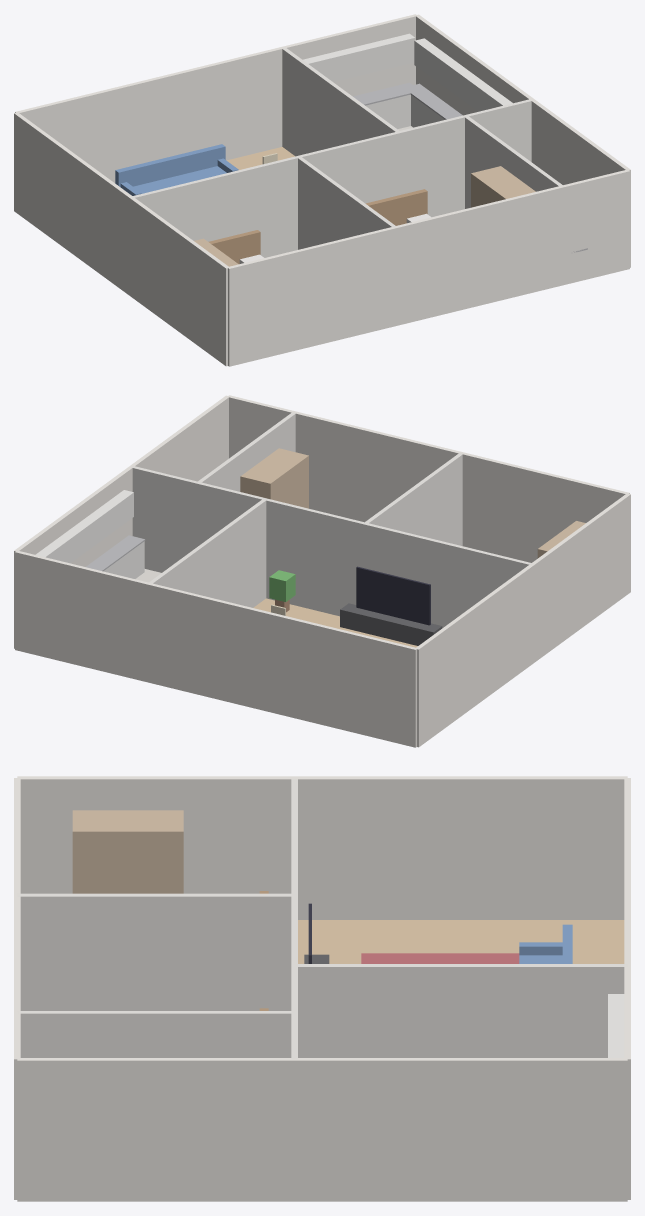
Rendered from apartment.glb.
3 views of the same model, one above another, from view 1: azimuth 30°, elevation 25°; view 2: azimuth 150°, elevation 25°; view 3: azimuth 270°, elevation 25° (orthographic). The views are drawn at different scales.
Visible parts, largest first — view 1: Wall_North, Wall_South, Wall_West, IWall_LivBed, Wall_East, IWall_Kit, IWall_Beds, IWall_Bath, UpperCab_South, UpperCab_East, Sofa_Back, Wardrobe2 (+8 smaller); view 2: Wall_South, IWall_LivBed, Wall_North, Wall_West, Wall_East, IWall_Kit, IWall_Beds, TVScreen, Wardrobe2, UpperCab_East, IWall_Bath, TVStand (+4 smaller); view 3: Wall_East, Wall_West, IWall_Beds, IWall_Kit, IWall_Bath, Floor_Living, Wardrobe1, Wall_South, Wall_North, IWall_LivBed, Rug, UpperCab_South (+1 smaller).
Part boxes in pixels (<box>): Wall_North: <box>228,170,629,366</box>; Wall_South: <box>15,14,417,182</box>; Wall_West: <box>14,113,229,366</box>; IWall_LivBed: <box>131,99,531,257</box>; Wall_East: <box>416,14,630,267</box>; IWall_Kit: <box>282,48,400,156</box>; IWall_Beds: <box>297,157,396,249</box>; IWall_Bath: <box>465,115,563,208</box>; UpperCab_South: <box>303,33,415,82</box>; UpperCab_East: <box>414,38,512,111</box>; Sofa_Back: <box>115,144,225,186</box>; Wardrobe2: <box>471,166,535,207</box>; Wall_South: <box>15,550,417,747</box>; IWall_LivBed: <box>131,466,533,627</box>; Wall_North: <box>227,395,629,562</box>; Wall_West: <box>416,494,630,747</box>; Wall_East: <box>14,395,229,648</box>; IWall_Kit: <box>148,499,266,607</box>; IWall_Beds: <box>364,453,462,545</box>; TVScreen: <box>356,566,430,625</box>; Wardrobe2: <box>240,448,308,508</box>; UpperCab_East: <box>35,490,133,563</box>; IWall_Bath: <box>197,412,295,491</box>; TVStand: <box>340,603,442,645</box>; Wall_East: <box>17,1058,627,1201</box>; Wall_West: <box>17,776,627,919</box>; IWall_Beds: <box>17,893,294,1010</box>; IWall_Kit: <box>294,964,627,1057</box>; IWall_Bath: <box>20,1011,293,1057</box>; Floor_Living: <box>298,920,624,963</box>; Wardrobe1: <box>72,810,183,893</box>; Wall_South: <box>624,778,630,1199</box>; Wall_North: <box>14,778,20,1199</box>; IWall_LivBed: <box>291,779,297,1059</box>; Rug: <box>361,953,519,963</box>; UpperCab_South: <box>608,994,624,1057</box>.
Bounding box in the file's own units: 12.12 × 2.8 × 11.12.
